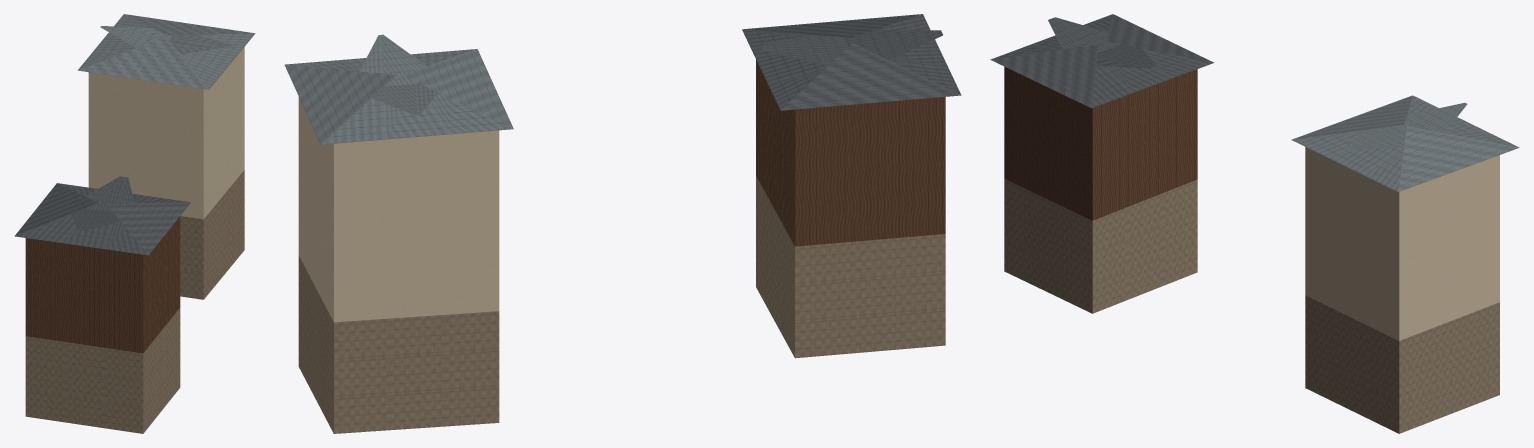
The model's file is bld_c8_6_513.gltf.
The picture shows the model from 3 angles, left to right: view 1: azimuth 30°, elevation 25°; view 2: azimuth 150°, elevation 25°; view 3: azimuth 270°, elevation 25°; orthographic projection. The views are drawn at different scales.
Parts seen in each view (by area): view 1: bld_c8_6_513; view 2: bld_c8_6_513; view 3: bld_c8_6_513.
Part boxes in pixels (bbox=[...]): bld_c8_6_513: bbox=[15, 14, 255, 433]; bld_c8_6_513: bbox=[284, 14, 961, 433]; bld_c8_6_513: bbox=[990, 14, 1519, 433].
Size of the model in its own units: 24.19 by 14.6 by 26.35.
5 materials, 5 textured.
